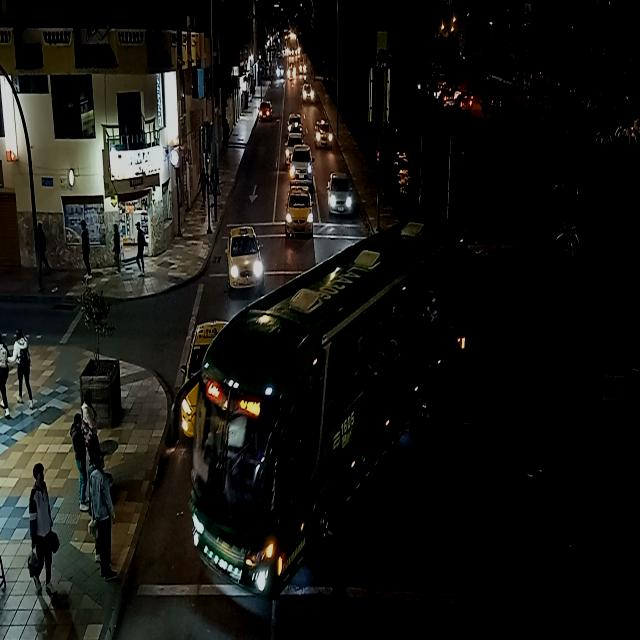BUS: (179, 320, 344, 607)
CMT: (290, 147, 313, 180)
SED: (230, 228, 262, 288), (286, 191, 312, 235), (330, 173, 352, 214)
